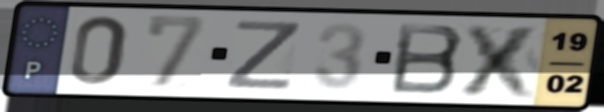0: (66, 13, 132, 89)
3: (312, 21, 372, 94)
7: (142, 13, 211, 92)
B: (387, 21, 468, 97)
X: (454, 22, 547, 100)
Z: (222, 18, 306, 92)
